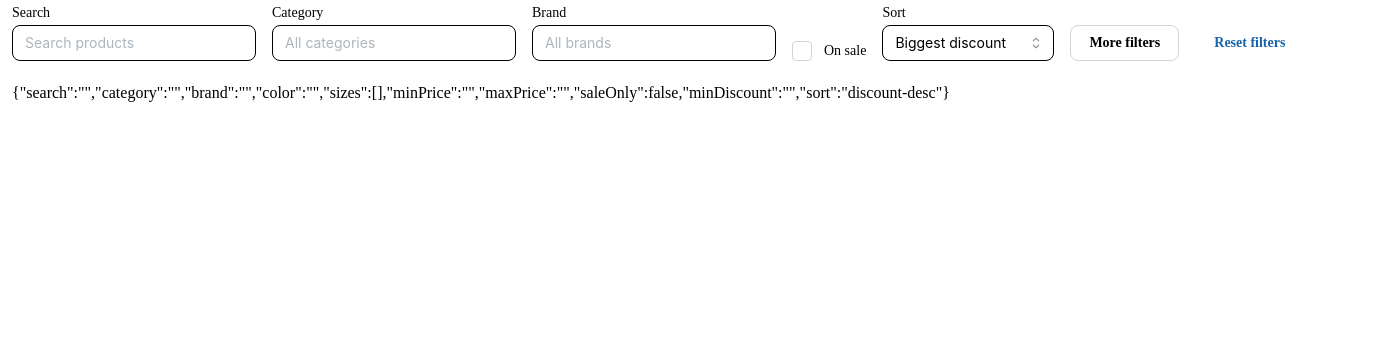
Scenario: size choices include only catalog metadata and preserve multiple observed labels
The width and height of the screenshot is (1390, 358).
Click the button "More filters".
click(1125, 43)  # box [1070,25,1179,61]
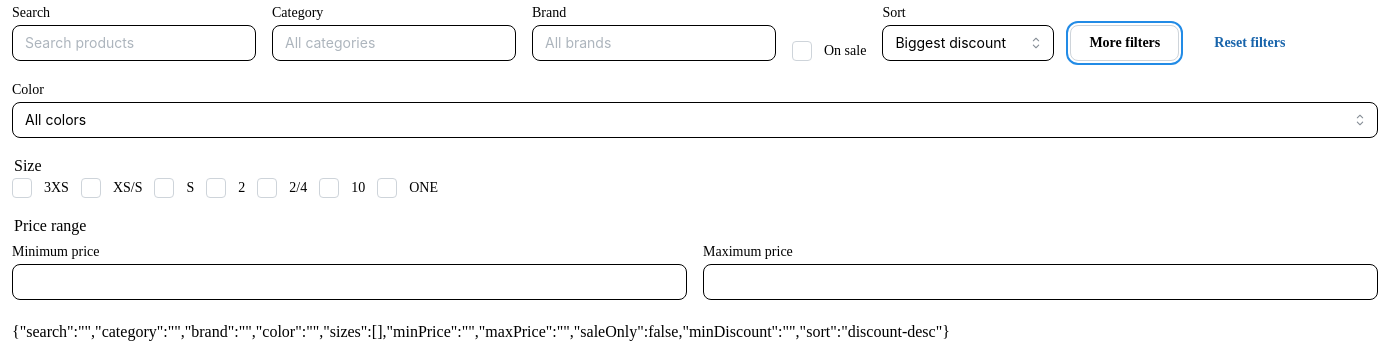
Click the checkbox labelled "ONE".
click(387, 188)  # box [377,178,397,198]
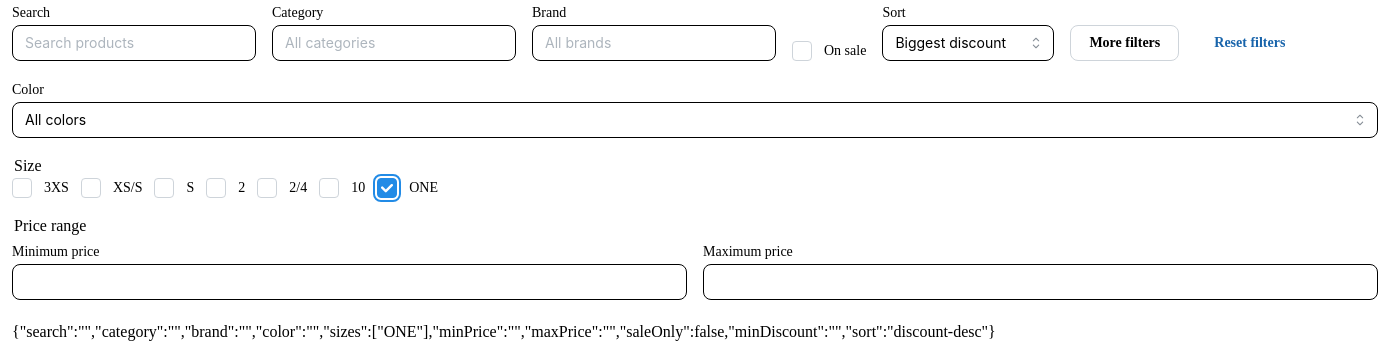
Click the checkbox labelled "3XS".
click(22, 188)  # box [12,178,32,198]
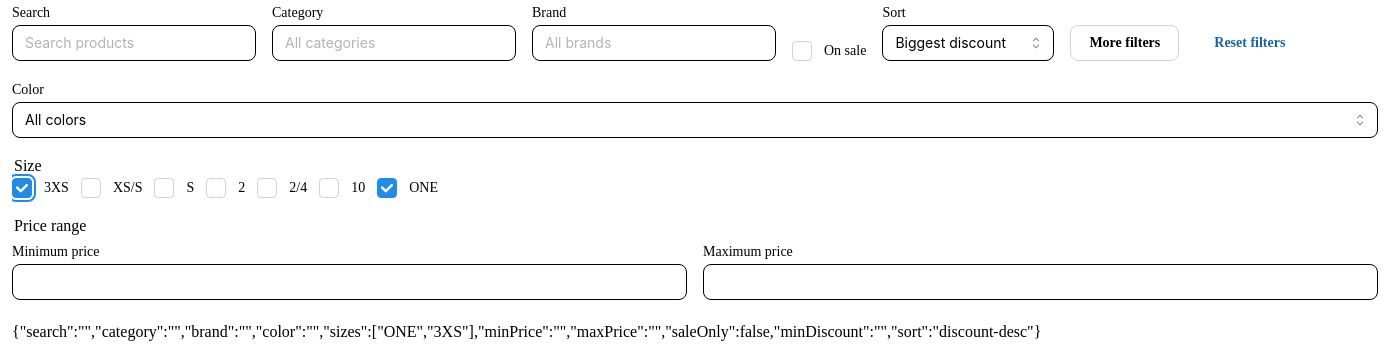
Result: the text named "Selected filters" shows "\"sizes\":[\"ONE\",\"3XS\"]" at [12,323,1041,340]
